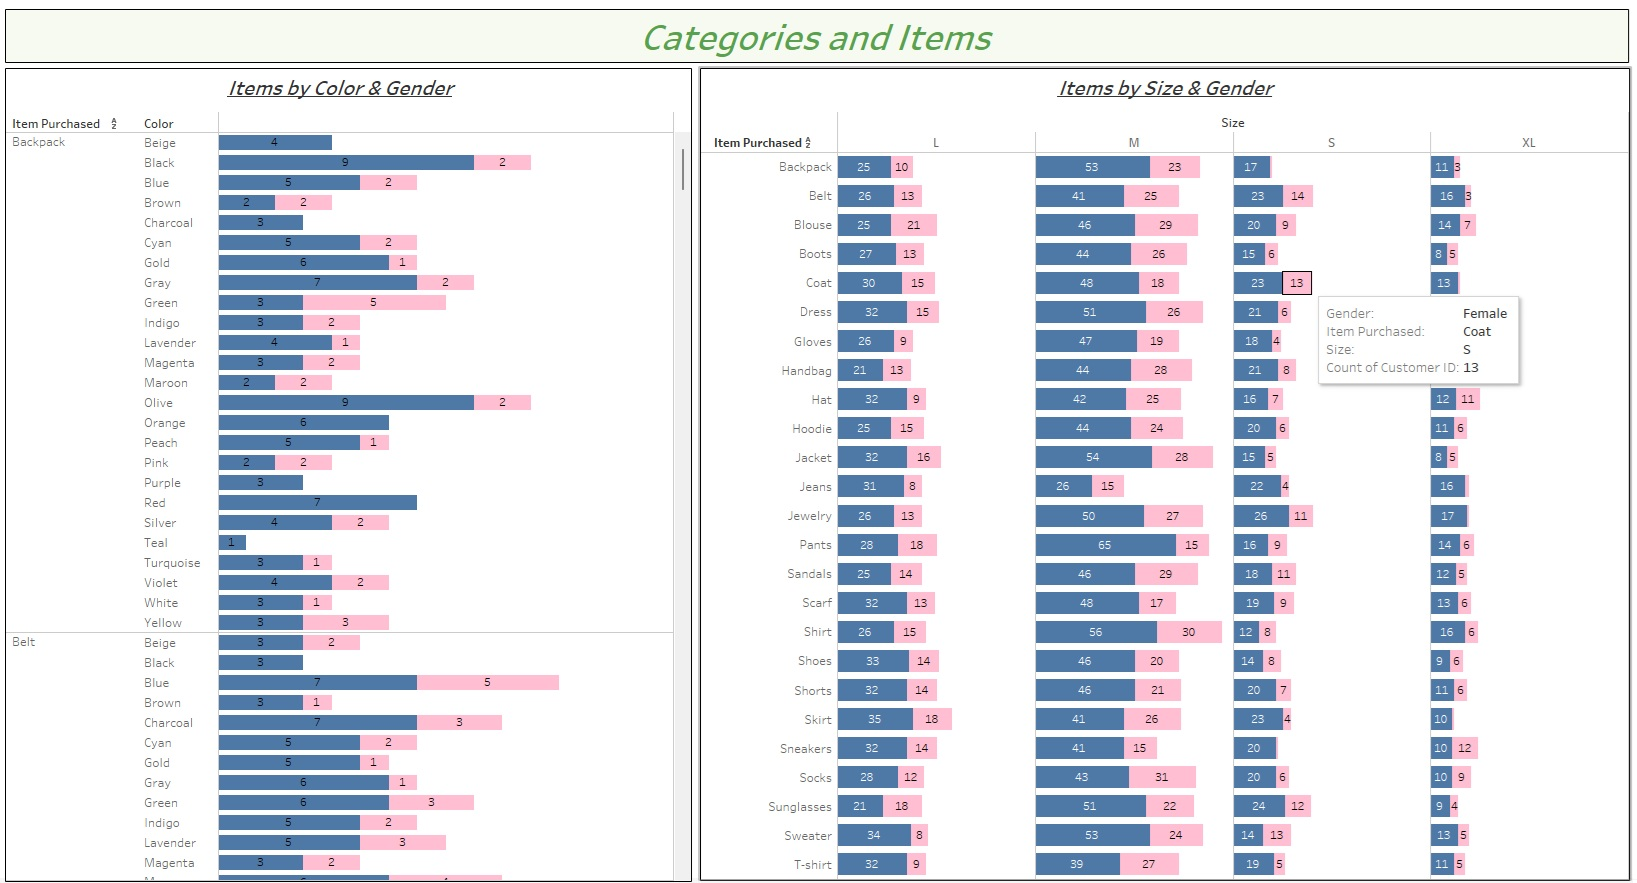

What the dashboard file says about the page in this screenshot:
{"tool":"tableau","page":{"name":"Dashboard 3","canvas":[1654,890],"ordinal":2},"visuals":[{"type":"text","box":[13,21,1624,54]},{"type":"worksheet","title":"Items by Color & Gender","mark":"Automatic","rows":["Item_Purchased","Color"],"cols":["Customer_ID"],"box":[13,80,687,814]},{"type":"worksheet","title":"Items by Size & Gender","mark":"Bar","rows":["Item_Purchased"],"cols":["Size","Customer_ID"],"box":[708,80,930,813]}]}

Visuals, with their boxes in screenshot pixels (x1, y1, x2, y2), scaled from the page's 1654x890 canvas onto the 1637x883 screenshot:
text: BBox(13, 21, 1620, 74)
"Items by Color & Gender" worksheet: BBox(13, 79, 693, 882)
"Items by Size & Gender" worksheet (Bar marks): BBox(701, 79, 1621, 882)
